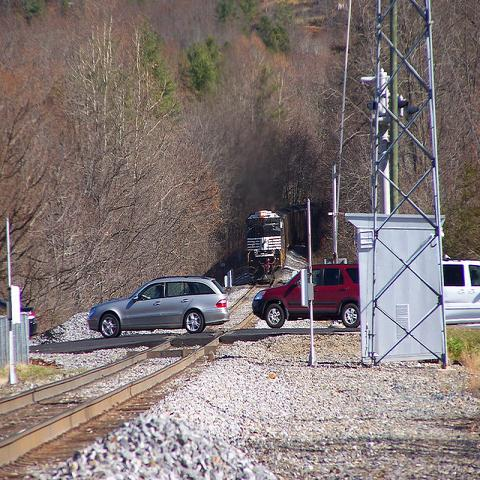car: (87, 274, 230, 338), (252, 264, 360, 329), (442, 258, 480, 330), (0, 299, 39, 340)
